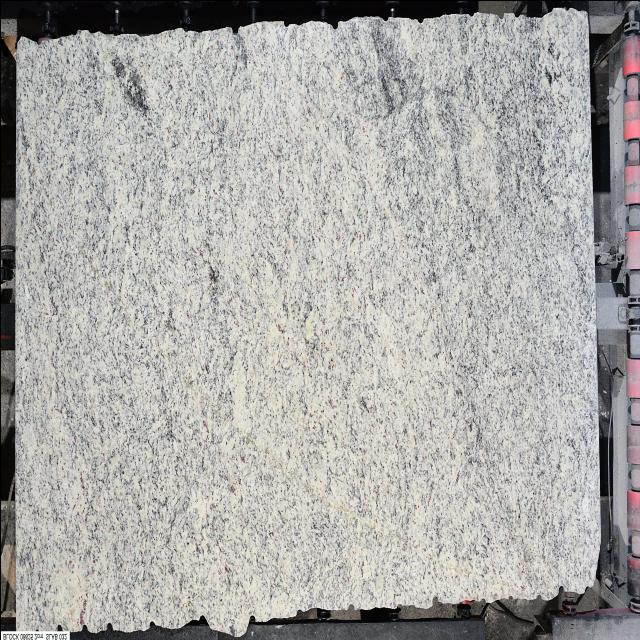chapa: (15, 8, 599, 634)
